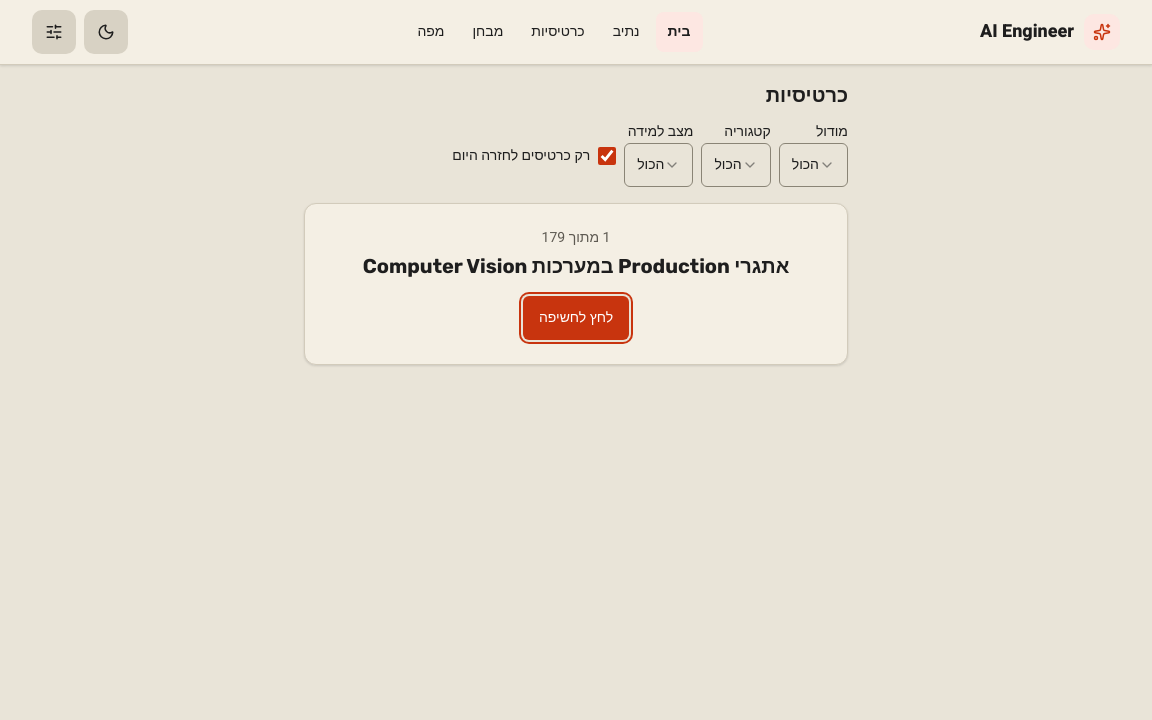
Test: Flashcards › does not reinsert an "Again"-rated card later in the same session
Click the dropdown named "מצב למידה" at coordinates (659, 165), box [624,143,694,187]
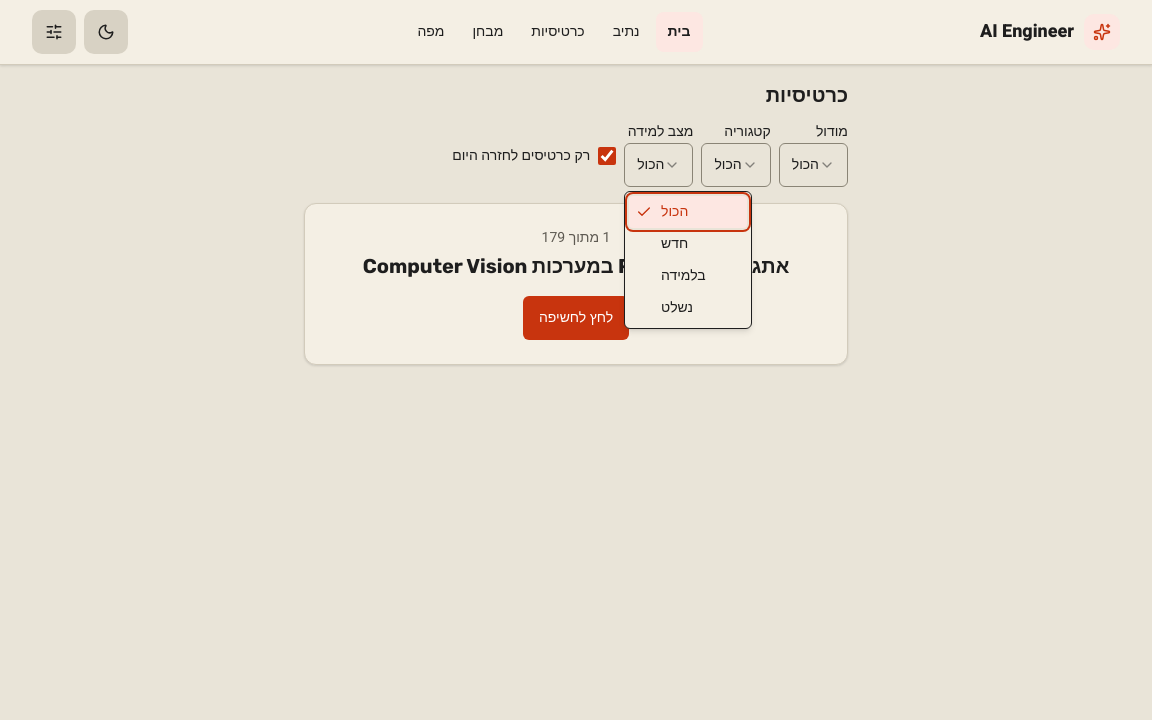
Click the option "חדש" at coordinates (675, 244), box [661,233,688,254]
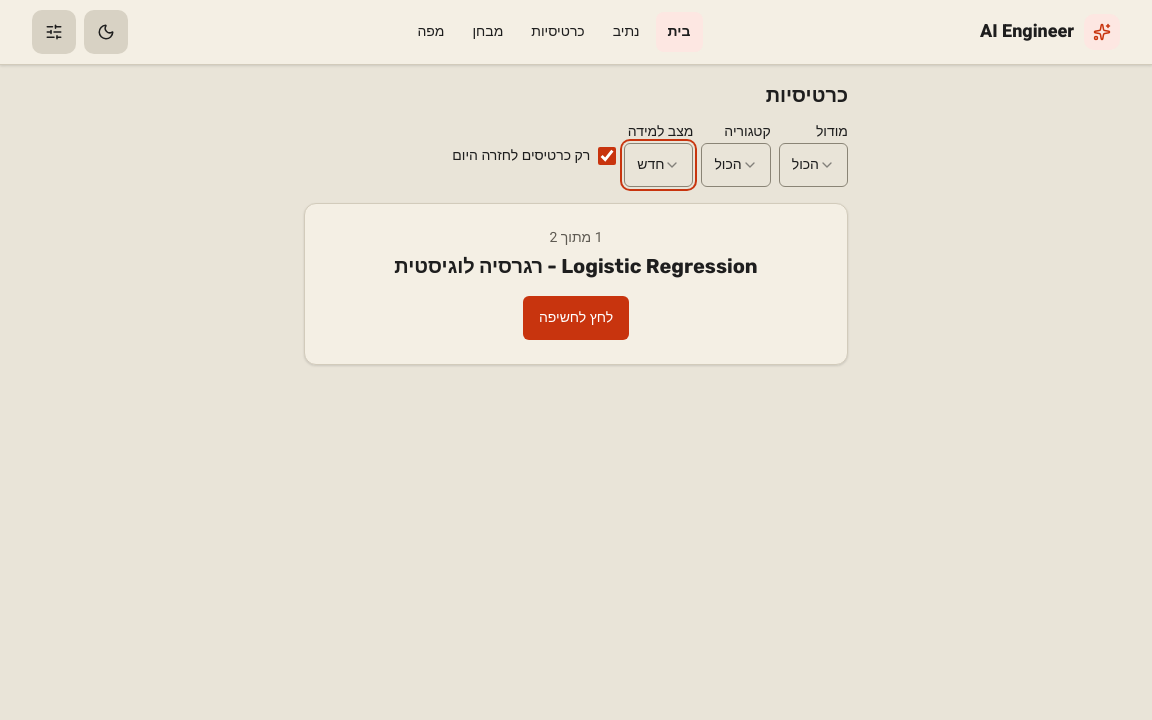
Check: the text "1 מתוך 2" is shown, box [549,227,602,248]
Click the button "לחץ לחשיפה" at coordinates (576, 318), box [523,296,629,340]
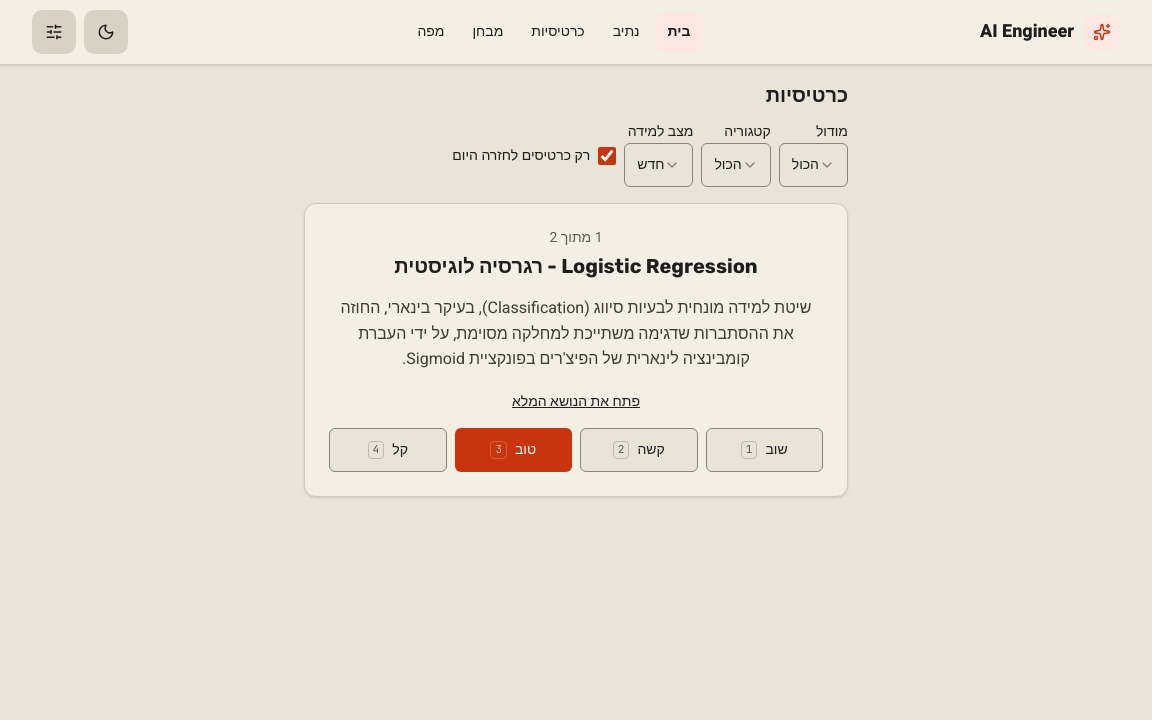
Click the button "שוב 1" at coordinates (764, 450), box [706,428,823,472]
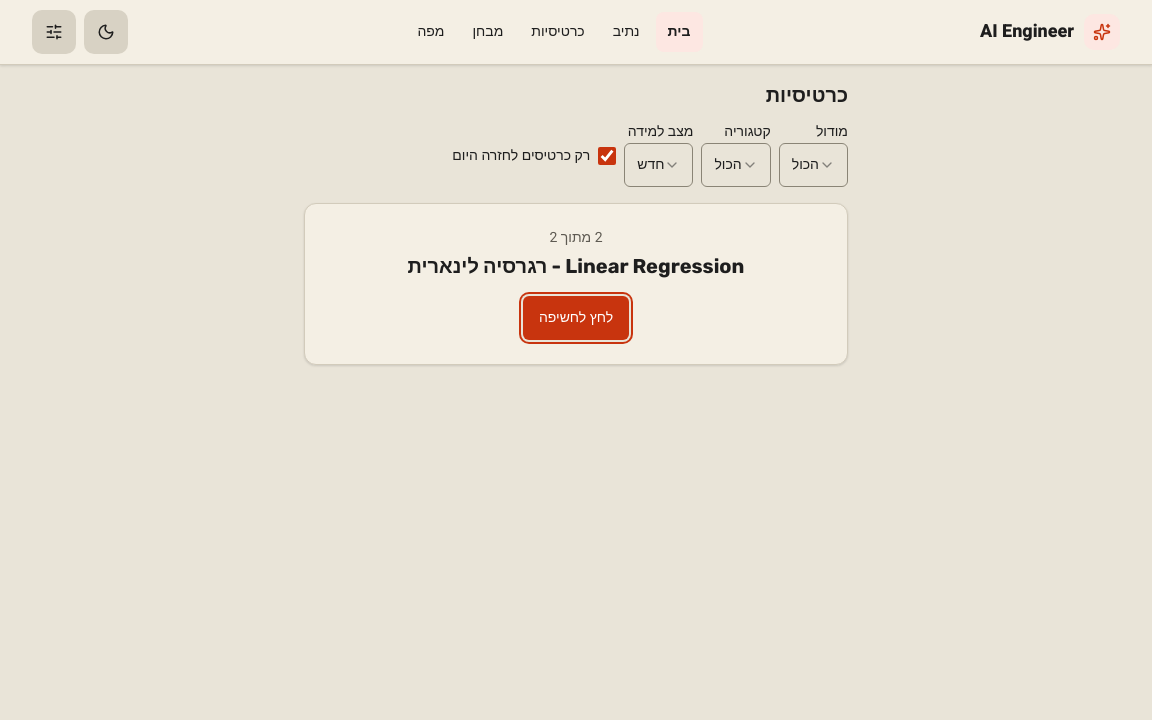
Check: the text "2 מתוך 2" is shown, box [549,227,602,248]
Click the button "לחץ לחשיפה" at coordinates (576, 318), box [523,296,629,340]
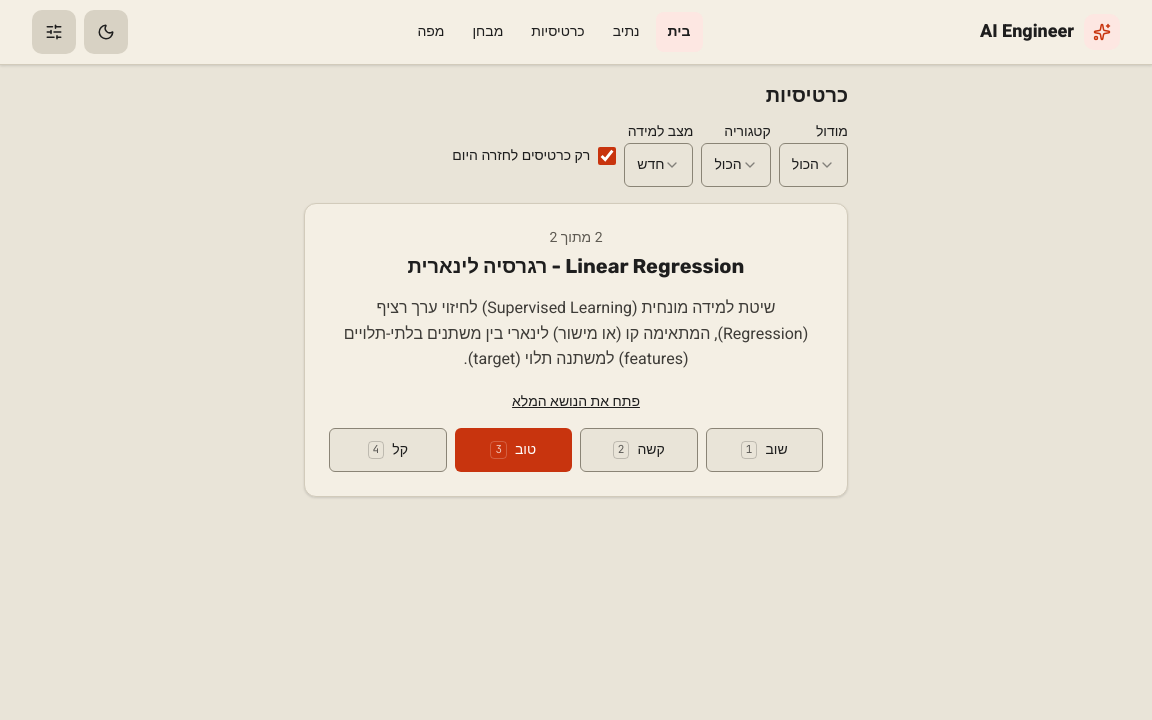
Click the button "טוב 3" at coordinates (513, 450), box [454,428,572,472]
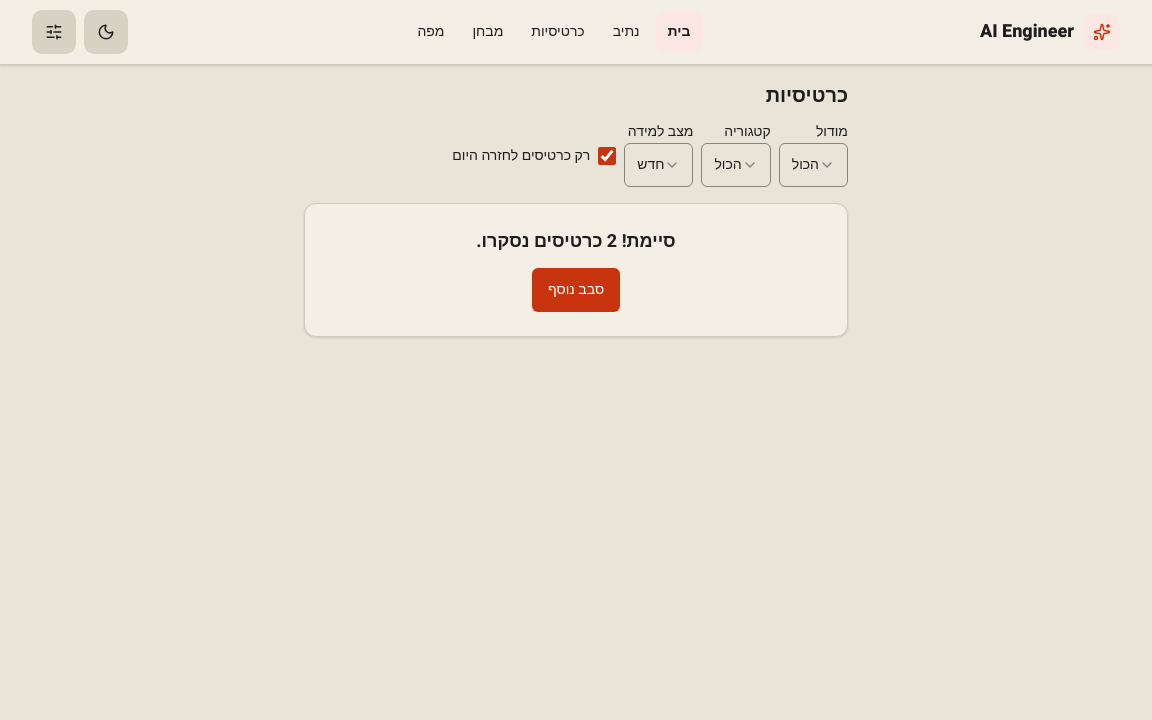
Check: the message shows "סיימת! 2 כרטיסים נסקרו.", box [476,228,676,255]
